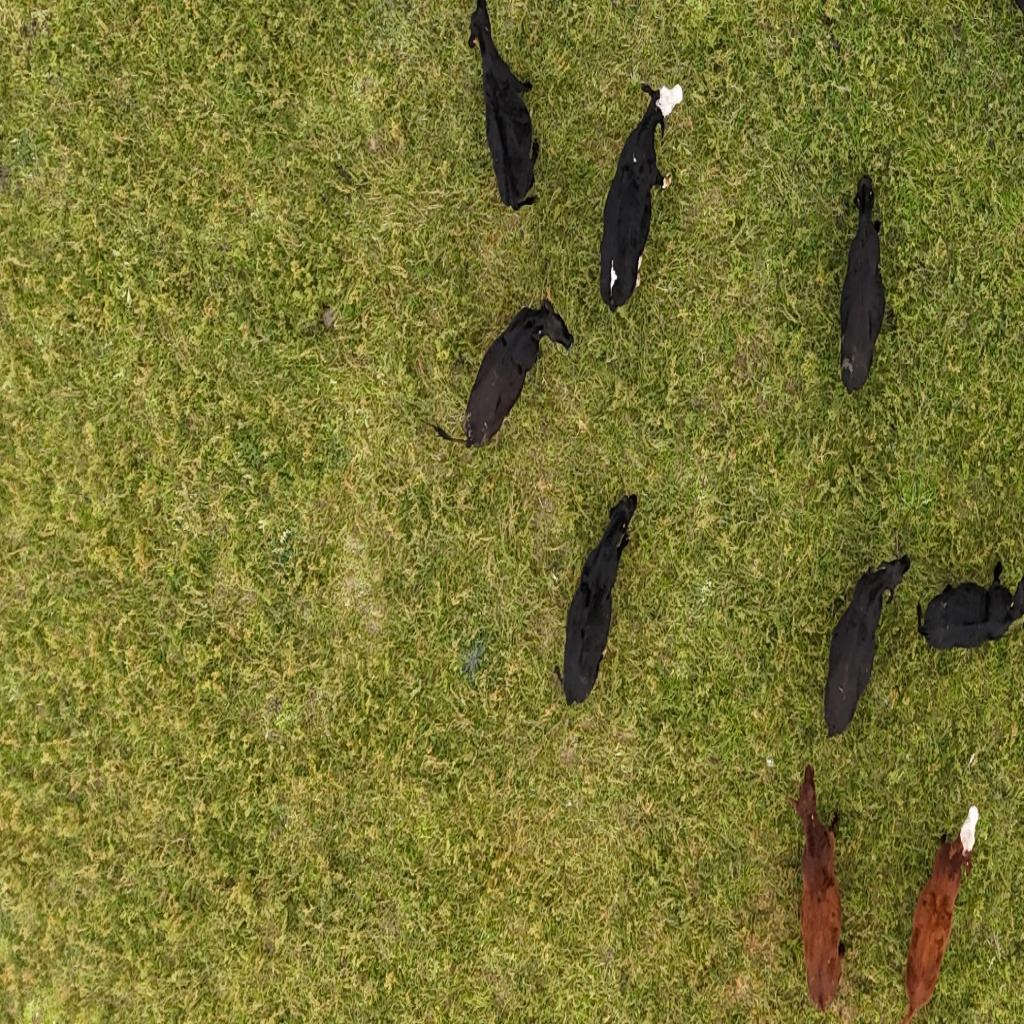cow: (438, 298, 577, 452), (599, 82, 680, 314), (897, 804, 981, 1022), (556, 493, 638, 705), (821, 554, 911, 741), (790, 760, 850, 1018), (469, 0, 541, 212), (838, 175, 886, 394), (916, 555, 1024, 652)
